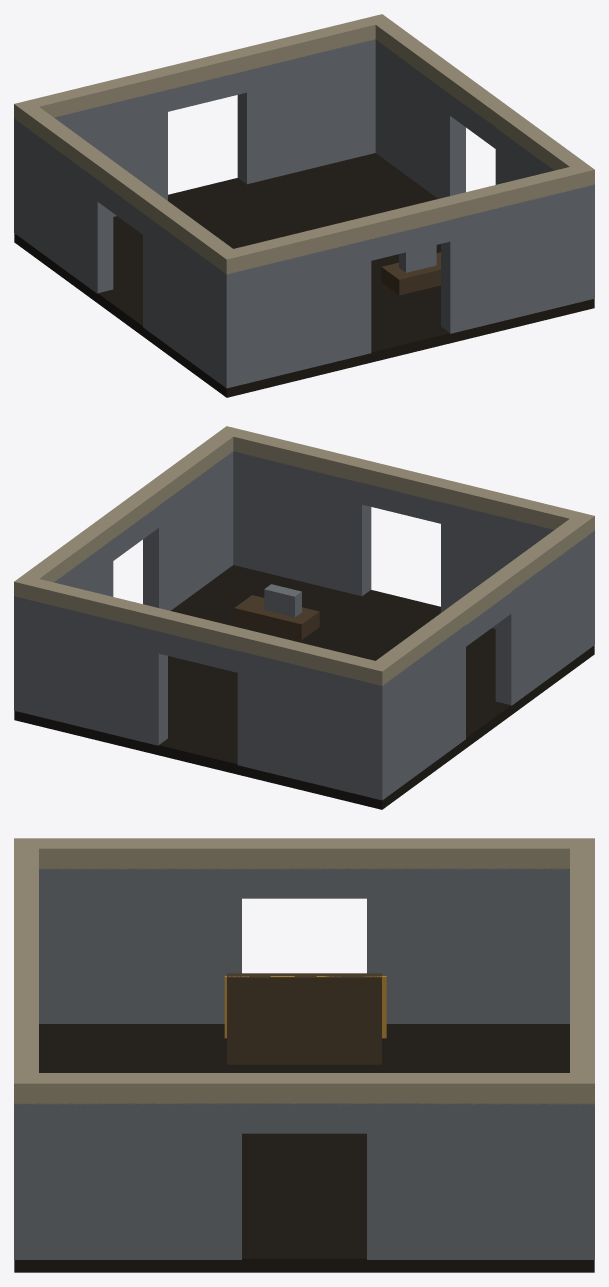
Rendered from GuardRoomInner.fbx.
3 views of the same model, one above another, from view 1: azimuth 30°, elevation 25°; view 2: azimuth 150°, elevation 25°; view 3: azimuth 270°, elevation 25° (orthographic). The views are drawn at different scales.
Visible parts, largest first — view 1: GuardRoomInner; view 2: GuardRoomInner; view 3: GuardRoomInner.
Part boxes in pixels (x1,y1,x2,y2): GuardRoomInner: [14, 14, 594, 397]; GuardRoomInner: [14, 426, 594, 809]; GuardRoomInner: [14, 838, 594, 1272].
Bounding box in the file's own units: 1202 × 432 × 1202.
Materials: 5 (5 with a texture image).
